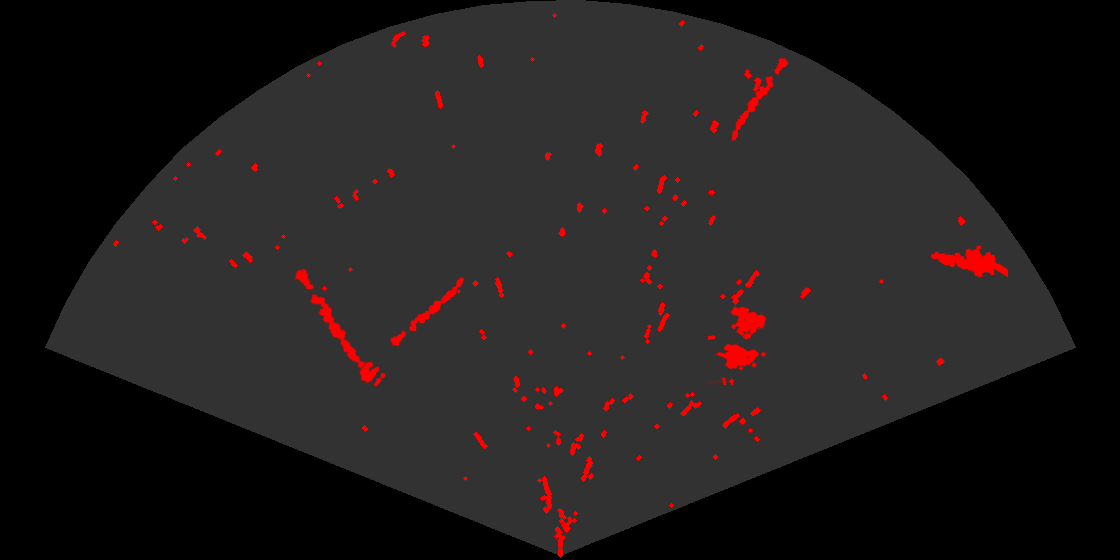ball: (358, 360, 387, 388)
cage: (708, 305, 768, 385)
chain: (293, 267, 372, 374), (389, 276, 466, 348), (730, 56, 790, 142)
frogman: (929, 244, 1008, 279)
